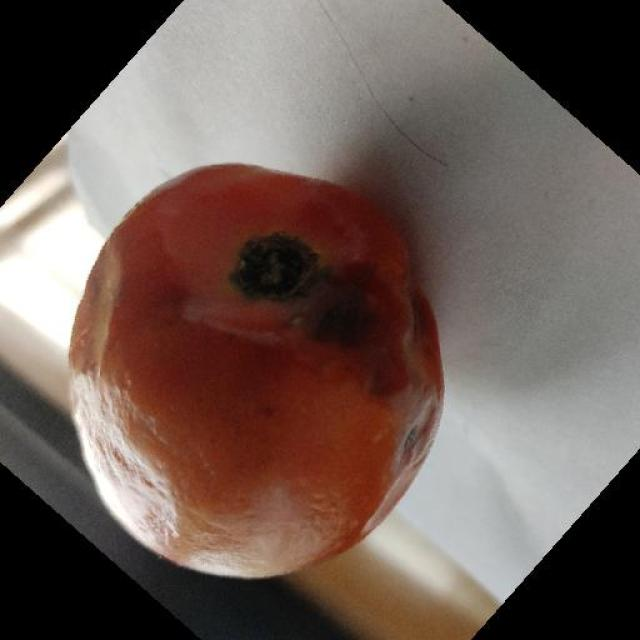Stale_tomato: (70, 150, 442, 578)
